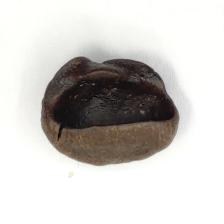NG: (50, 75, 178, 138), (72, 48, 150, 69)
